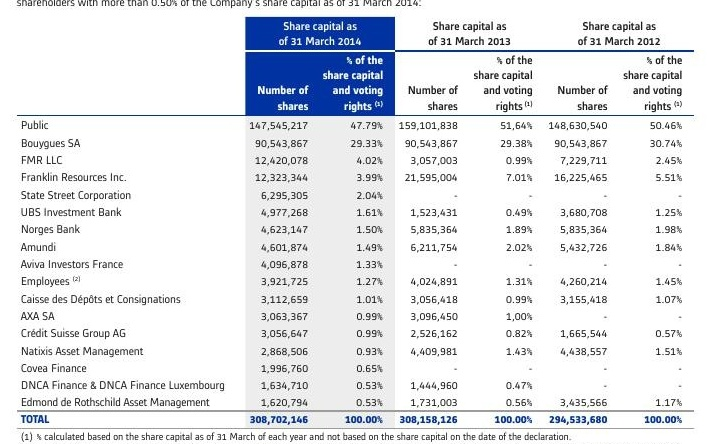table: (0, 0, 711, 444)
